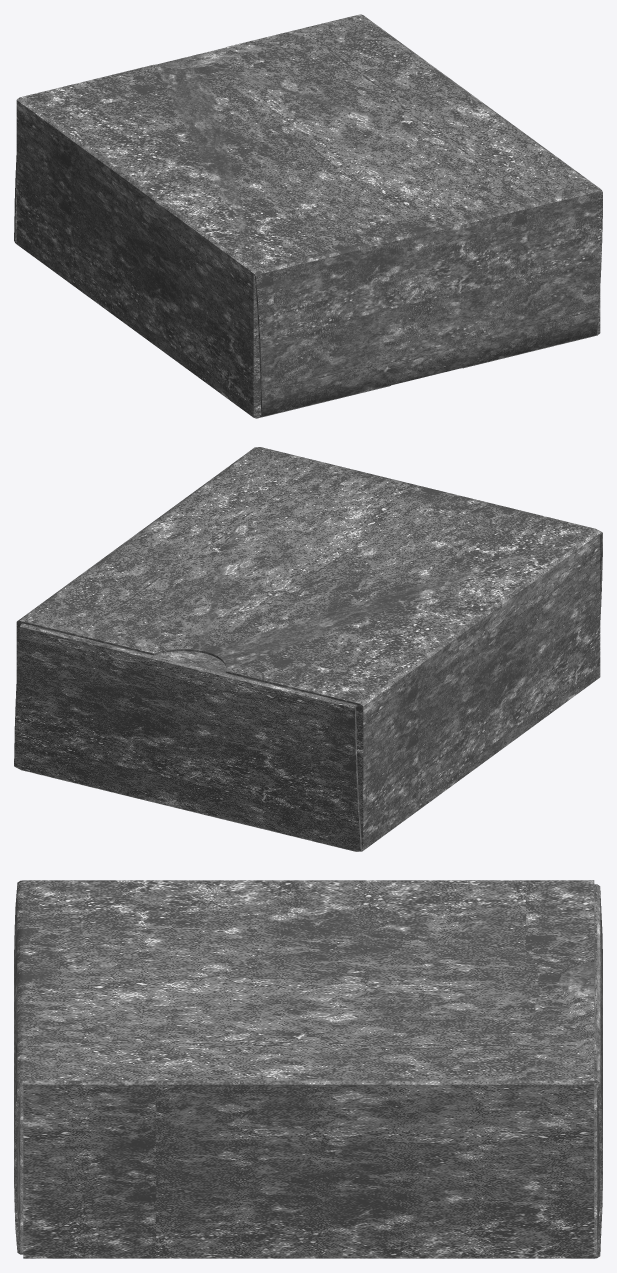
File: ammo_sniper.fbx
The picture shows the model from 3 angles, top to bottom: view 1: azimuth 30°, elevation 25°; view 2: azimuth 150°, elevation 25°; view 3: azimuth 270°, elevation 25°; orthographic projection. The views are drawn at different scales.
Visible parts, largest first — view 1: Cube; view 2: Cube; view 3: Cube.
Boxes of the visible parts, box(x1,y1,x2,y2) form: Cube: box(14, 14, 602, 418); Cube: box(14, 447, 602, 851); Cube: box(14, 880, 602, 1258).
Size of the model in its own units: 7.96 by 3.24 by 9.73.
